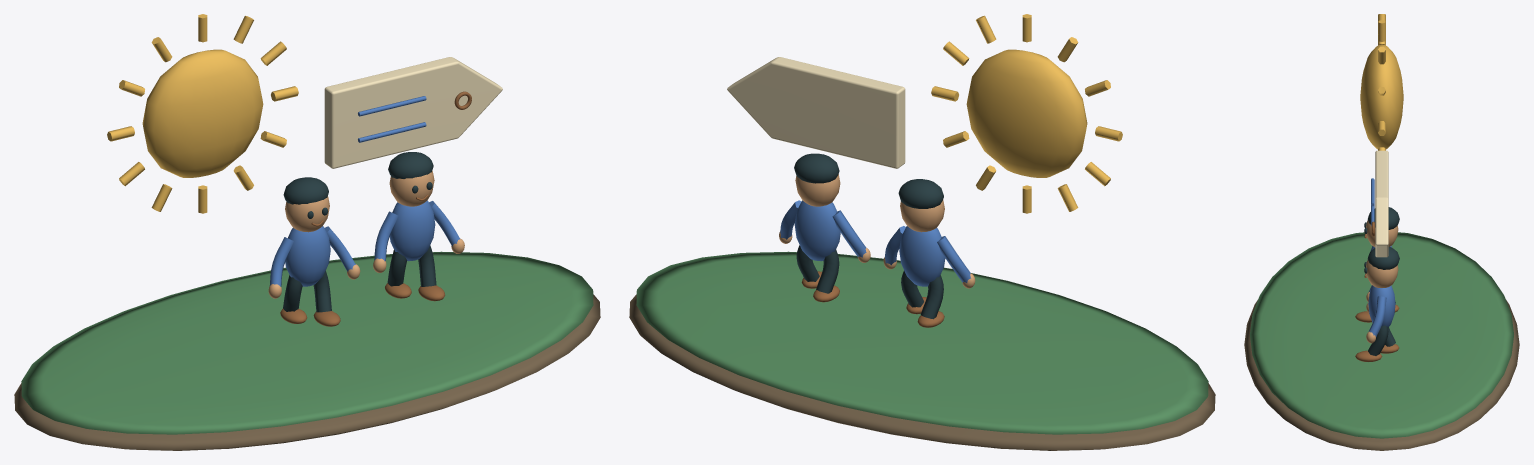
The model's file is complete-second-well-known-name.glb.
The picture shows the model from 3 angles, left to right: view 1: azimuth 30°, elevation 25°; view 2: azimuth 150°, elevation 25°; view 3: azimuth 270°, elevation 25°; orthographic projection. The views are drawn at different scales.
Visible parts, largest first — view 1: complete-second-well-known-name_surface_01, complete-second-well-known-name_surface_02, complete-second-well-known-name_surface_03, complete-second-well-known-name_surface_00, complete-second-well-known-name_surface_05, complete-second-well-known-name_surface_07, complete-second-well-known-name_surface_06, complete-second-well-known-name_surface_04; view 2: complete-second-well-known-name_surface_01, complete-second-well-known-name_surface_02, complete-second-well-known-name_surface_03, complete-second-well-known-name_surface_00, complete-second-well-known-name_surface_05, complete-second-well-known-name_surface_07, complete-second-well-known-name_surface_06, complete-second-well-known-name_surface_04; view 3: complete-second-well-known-name_surface_01, complete-second-well-known-name_surface_00, complete-second-well-known-name_surface_02, complete-second-well-known-name_surface_03, complete-second-well-known-name_surface_07, complete-second-well-known-name_surface_05, complete-second-well-known-name_surface_06, complete-second-well-known-name_surface_04.
Part boxes in pixels (left/top/right/bottom): complete-second-well-known-name_surface_01: left=21, top=251, right=593, bottom=434; complete-second-well-known-name_surface_02: left=107, top=14, right=298, bottom=213; complete-second-well-known-name_surface_03: left=324, top=57, right=502, bottom=168; complete-second-well-known-name_surface_00: left=14, top=294, right=600, bottom=450; complete-second-well-known-name_surface_05: left=269, top=96, right=459, bottom=286; complete-second-well-known-name_surface_07: left=283, top=152, right=436, bottom=312; complete-second-well-known-name_surface_06: left=268, top=171, right=464, bottom=298; complete-second-well-known-name_surface_04: left=280, top=91, right=471, bottom=326; complete-second-well-known-name_surface_01: left=636, top=251, right=1208, bottom=434; complete-second-well-known-name_surface_02: left=931, top=14, right=1122, bottom=213; complete-second-well-known-name_surface_03: left=727, top=57, right=905, bottom=168; complete-second-well-known-name_surface_00: left=629, top=294, right=1215, bottom=450; complete-second-well-known-name_surface_05: left=780, top=200, right=970, bottom=286; complete-second-well-known-name_surface_07: left=794, top=153, right=943, bottom=319; complete-second-well-known-name_surface_06: left=779, top=174, right=975, bottom=288; complete-second-well-known-name_surface_04: left=801, top=271, right=944, bottom=327; complete-second-well-known-name_surface_01: left=1250, top=232, right=1513, bottom=438; complete-second-well-known-name_surface_00: left=1244, top=300, right=1519, bottom=450; complete-second-well-known-name_surface_02: left=1360, top=14, right=1403, bottom=150; complete-second-well-known-name_surface_03: left=1375, top=150, right=1388, bottom=257; complete-second-well-known-name_surface_07: left=1364, top=207, right=1399, bottom=355; complete-second-well-known-name_surface_05: left=1368, top=178, right=1395, bottom=337; complete-second-well-known-name_surface_06: left=1366, top=220, right=1398, bottom=343; complete-second-well-known-name_surface_04: left=1355, top=221, right=1399, bottom=361.
Bounding box in the file's own units: 4.56 × 2.97 × 2.5.
